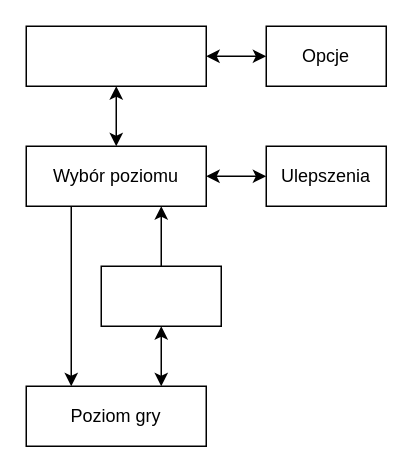
The diagram is 413 pixels wide and 473 high, and some of its shapes have lost their labels. The shapes that lost their labels are listed below. From the top down, each one's centre as x and y in pixels, then its label:
At point (115, 55): "Menu główne".
At point (160, 295): "Pauza".
